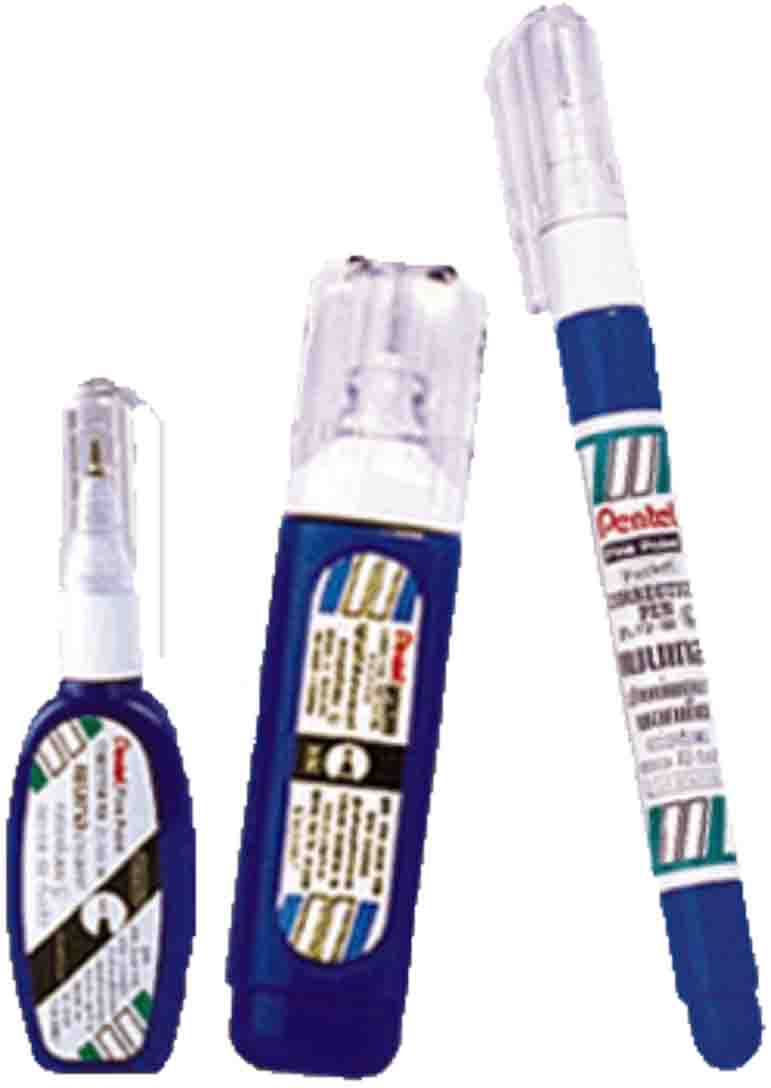Correction_fluid: (484, 1, 771, 1077), (218, 244, 492, 1083), (1, 373, 203, 1082)
